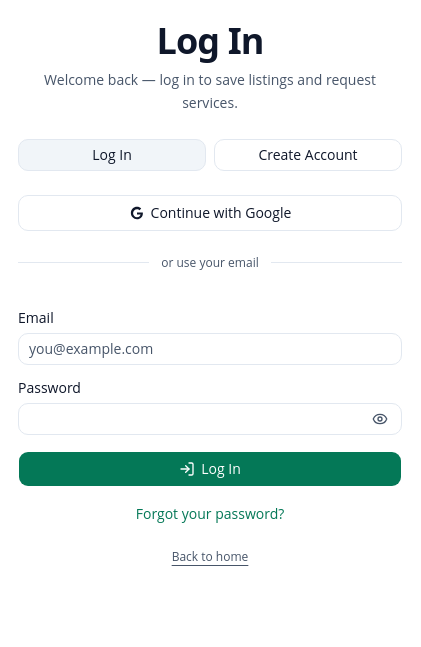
Test: LoginRegisterPage — email + password login › handles account_disabled calmly
Expected: the heading "Log In" is shown, [156,16,264,65]
Type "a@b.co" into the field labelled "Email".
click(210, 348); type("a@b.co")  # box [18,332,402,364]
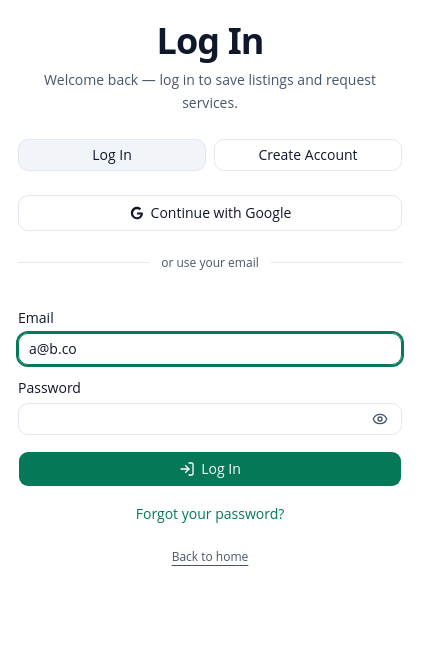
Type "some password" into the password field labelled "Password".
click(210, 418); type("some password")  # box [18,402,402,434]
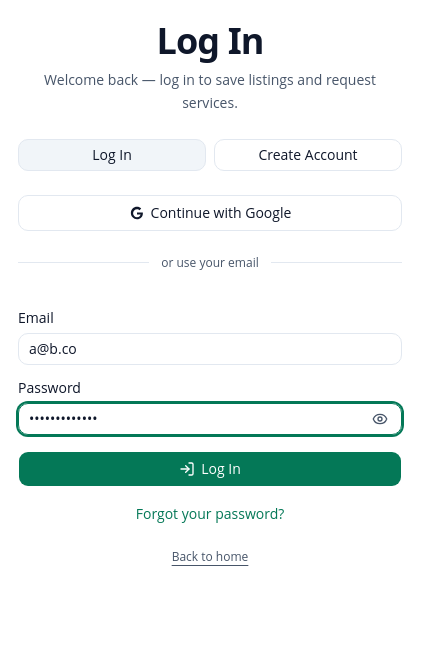
Click the button "Log In".
click(210, 468)  # box [18,450,402,486]
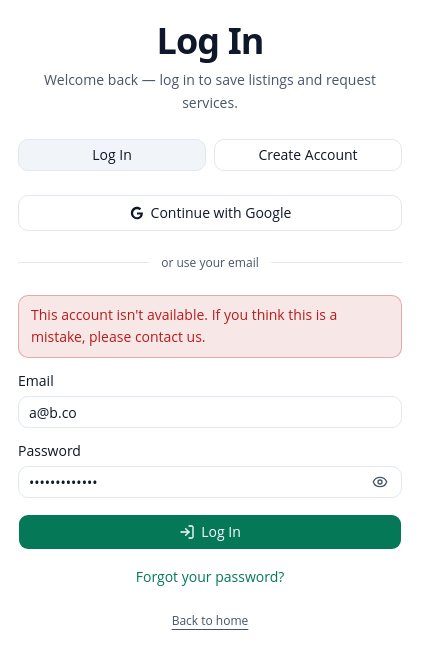
Expected: the text "isn't available" is shown, [31,304,337,346]
